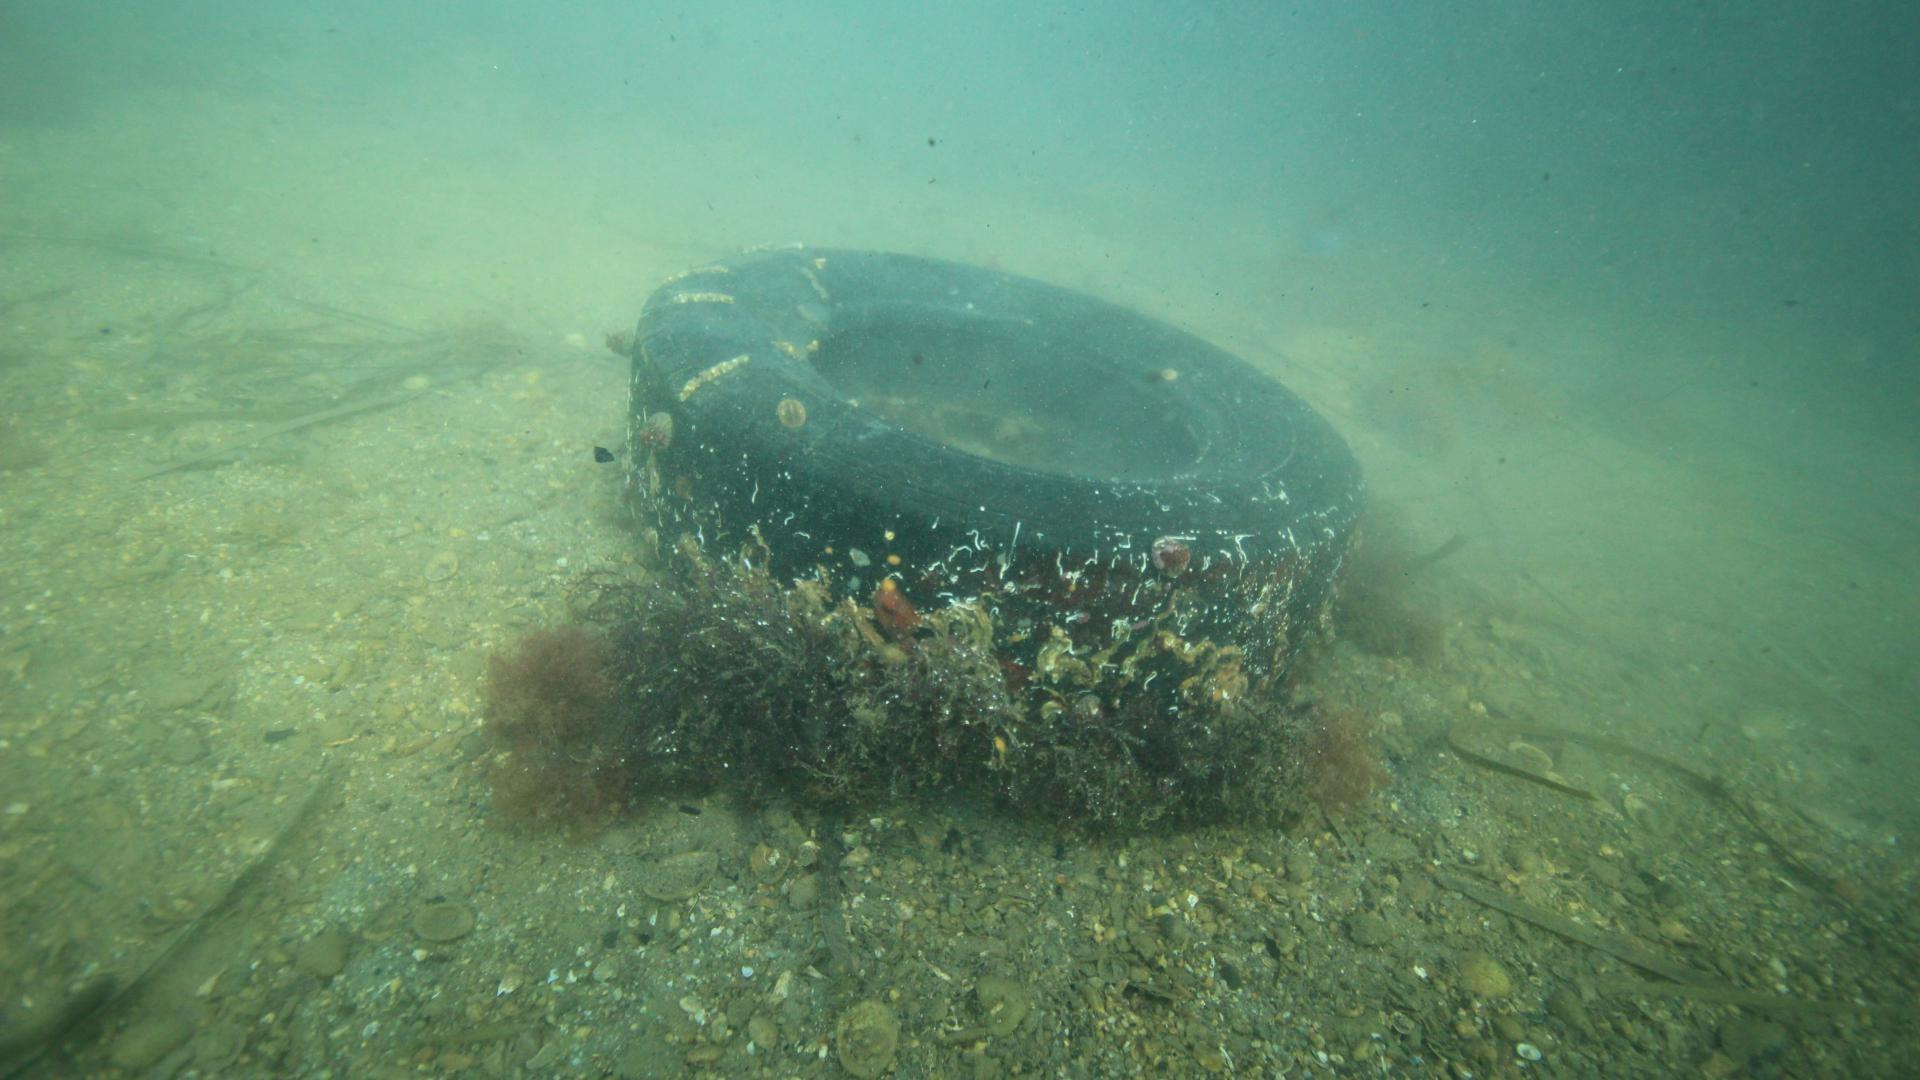tire: (617, 239, 1373, 775)
